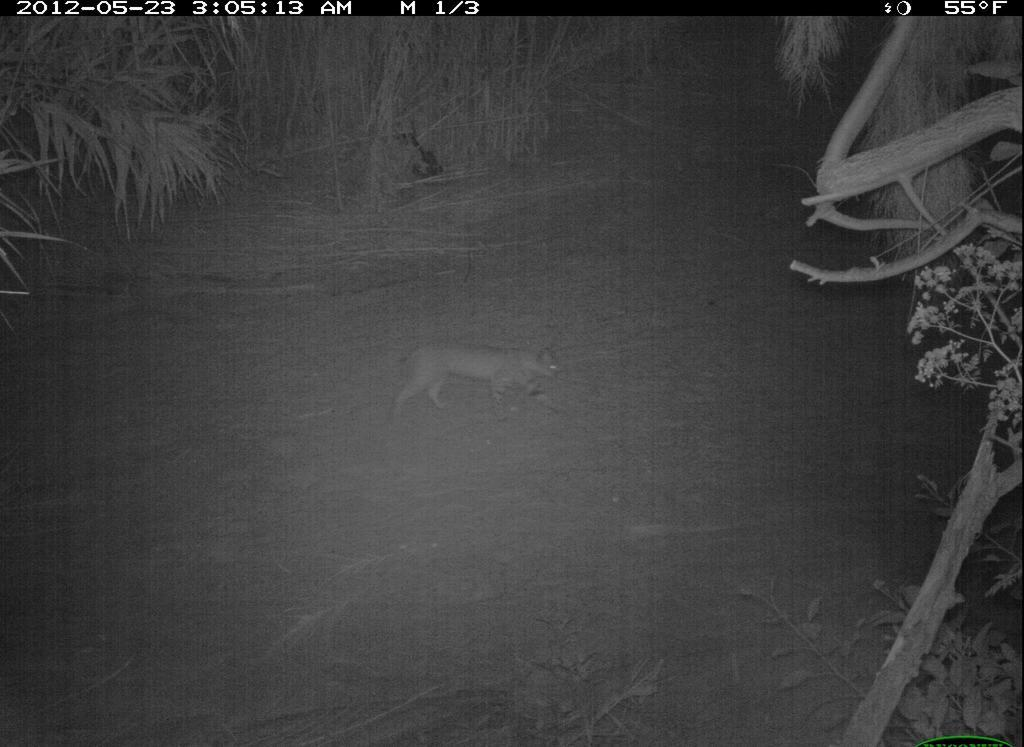bobcat: (365, 322, 594, 441)
